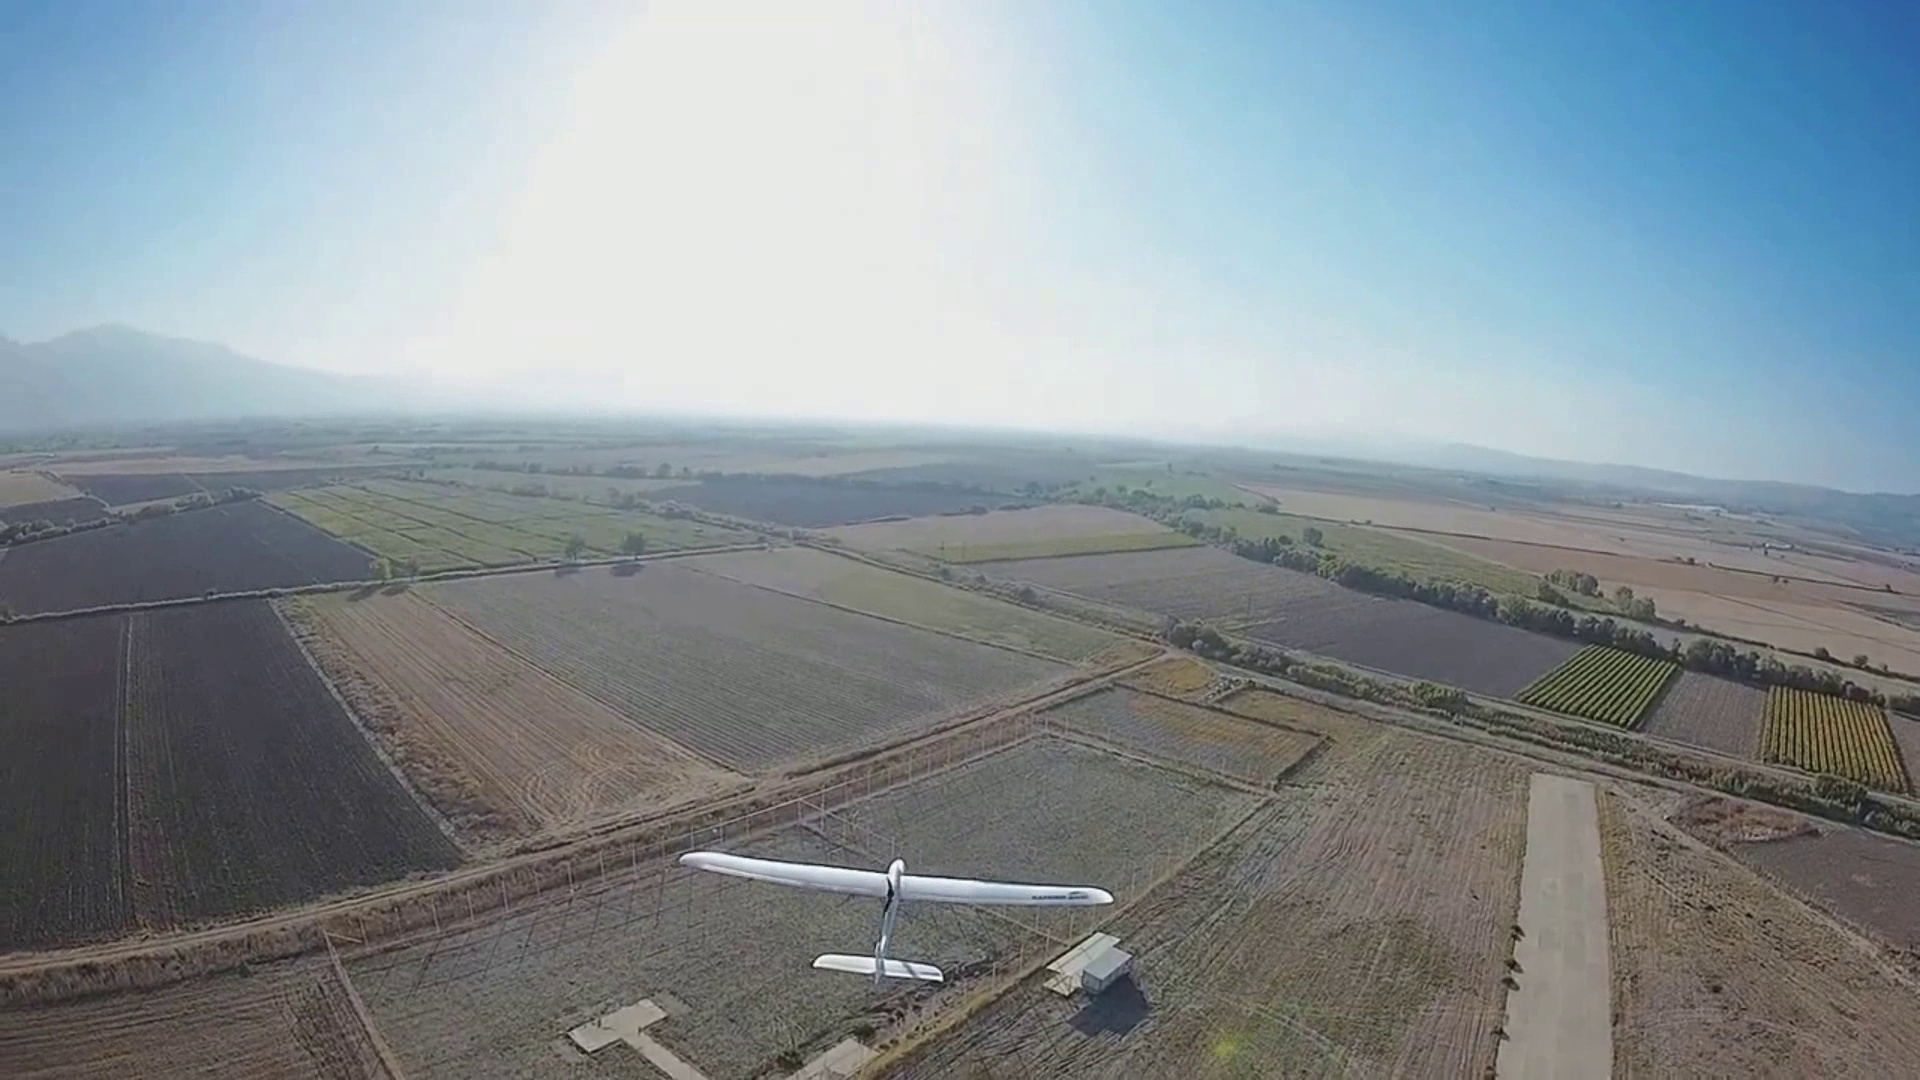airplane: (676, 847, 1133, 1002)
